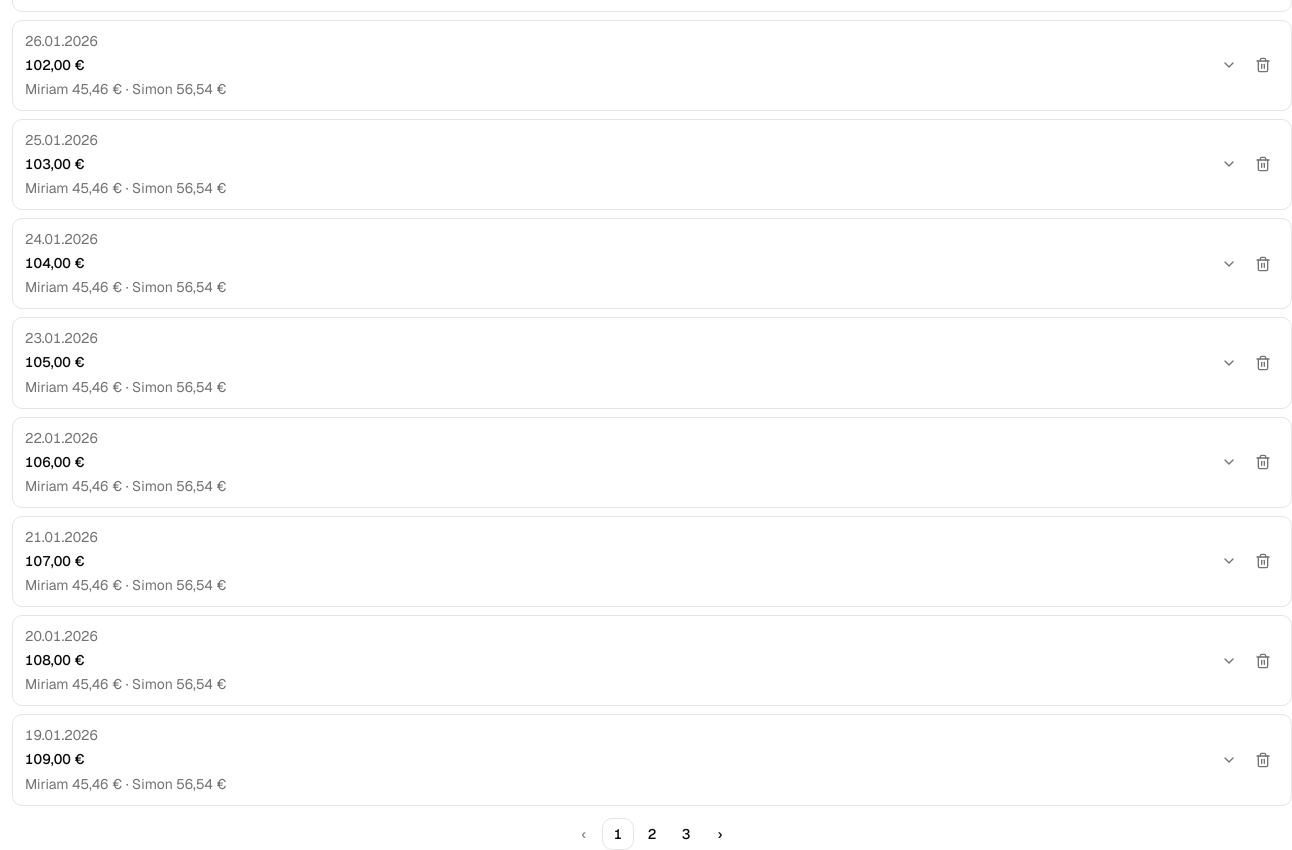
Test case: history pagination › shows only the first page and pages on to the rest
The width and height of the screenshot is (1292, 850).
(page scrolled)
Expected: the text "110,00 €" is not shown
Click the button named "Seite 2" at (652, 834), box x1=636 y1=818 x2=668 y2=849
(page scrolled)
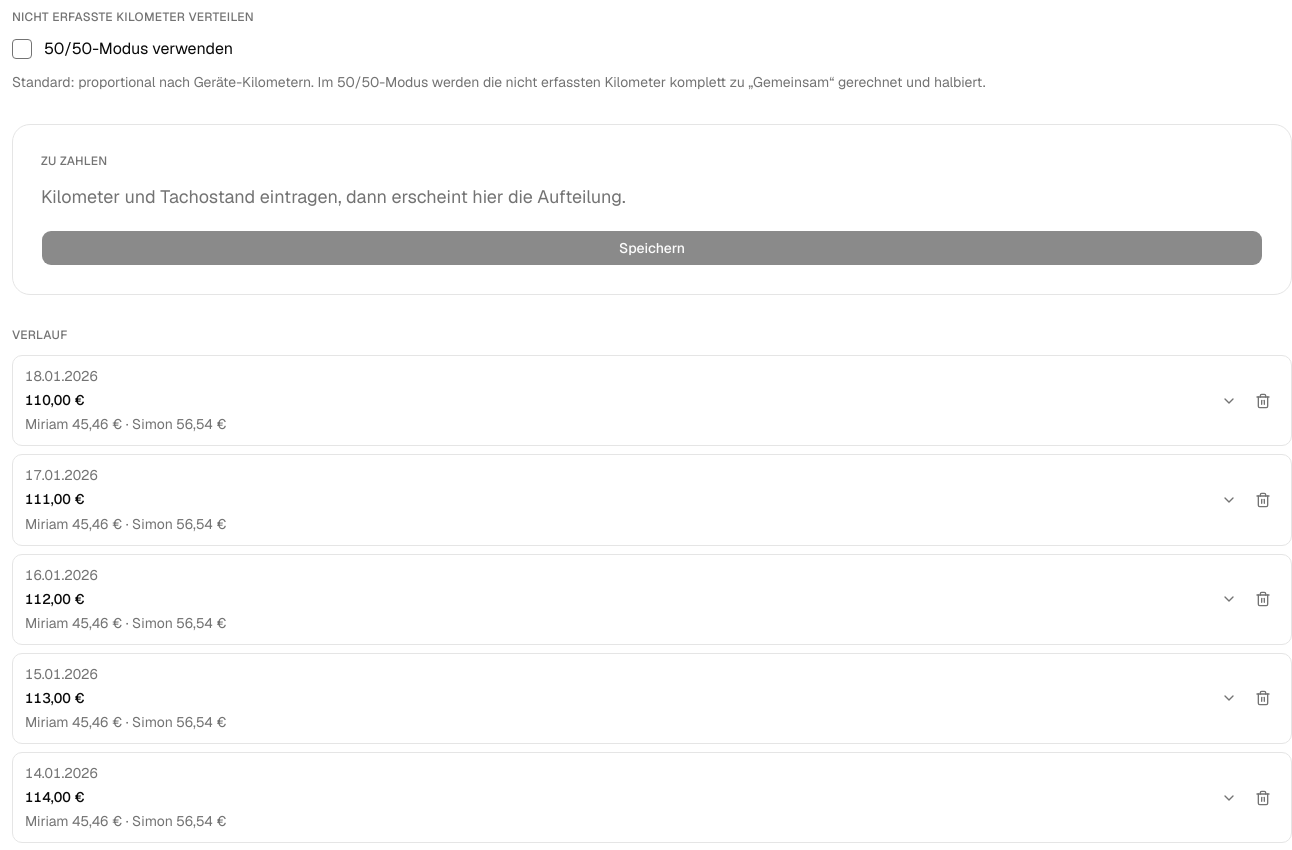
Expected: the text "110,00 €" is shown, x1=25 y1=391 x2=85 y2=409
